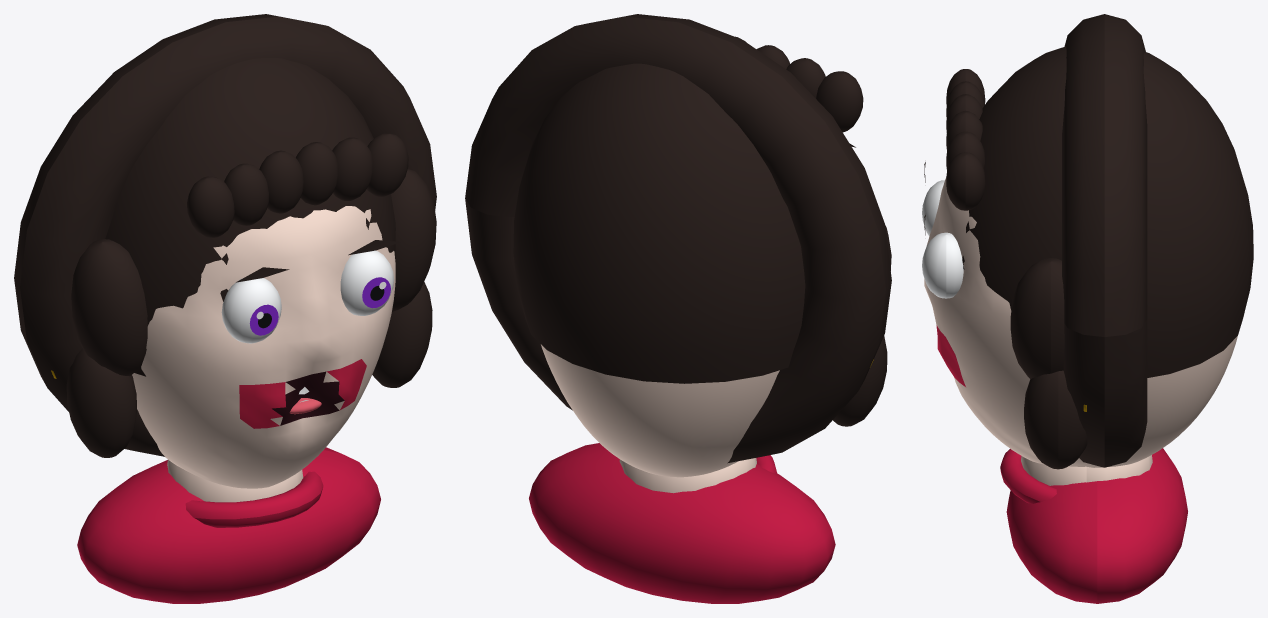
File: adult-woman.glb
3 renders of one model, left to right at view 1: azimuth 30°, elevation 25°; view 2: azimuth 150°, elevation 25°; view 3: azimuth 270°, elevation 25°, orthographic. The views are drawn at different scales.
Parts seen in each view (by area): view 1: Hair, Head, Shoulders, Collar, EyeL_Sclera, EyeR_Sclera, Neck; view 2: Hair, Shoulders, Head, Neck; view 3: Hair, Shoulders, Head, EyeR_Sclera, Neck, Collar, EyeL_Sclera.
Part boxes in pixels (<box>): Hair: <box>14,14,436,457</box>; Head: <box>132,206,395,488</box>; Shoulders: <box>77,447,380,603</box>; Collar: <box>185,471,323,527</box>; EyeL_Sclera: <box>221,278,281,343</box>; EyeR_Sclera: <box>340,250,394,315</box>; Neck: <box>167,459,303,502</box>; Hair: <box>465,14,891,463</box>; Shoulders: <box>529,443,835,603</box>; Head: <box>541,344,779,477</box>; Neck: <box>619,458,756,493</box>; Hair: <box>946,14,1253,469</box>; Shoulders: <box>1006,448,1187,603</box>; Head: <box>924,177,1237,467</box>; EyeR_Sclera: <box>922,232,963,298</box>; Neck: <box>1021,455,1152,485</box>; Collar: <box>1000,449,1056,503</box>; EyeL_Sclera: <box>922,180,944,236</box>.
Size of the model in its own units: 1.28 by 1.68 by 0.9374.
